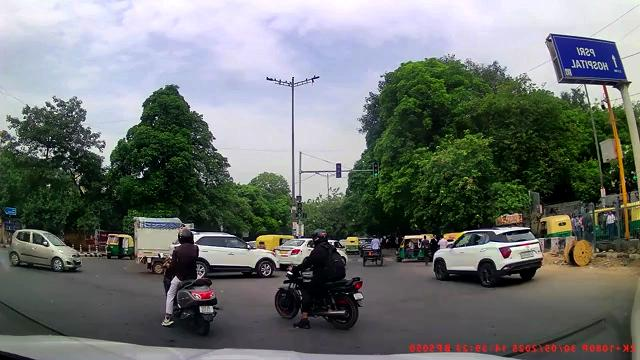motorcycle_with_helmet: (275, 227, 365, 330), (160, 225, 219, 336)
